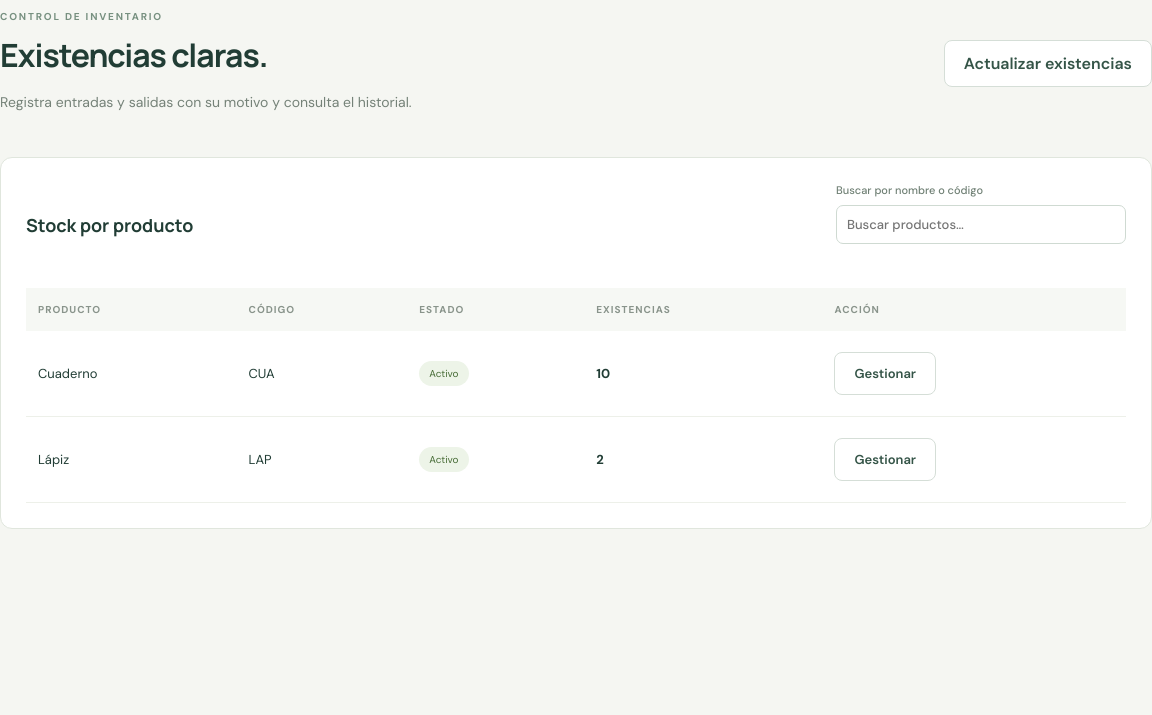
Scenario: Inventario › muestra el conflicto enviado por el servidor
Click the button "Gestionar" in the row of "Cuaderno": [885, 374] box [834,352,936,395]
(page scrolled)
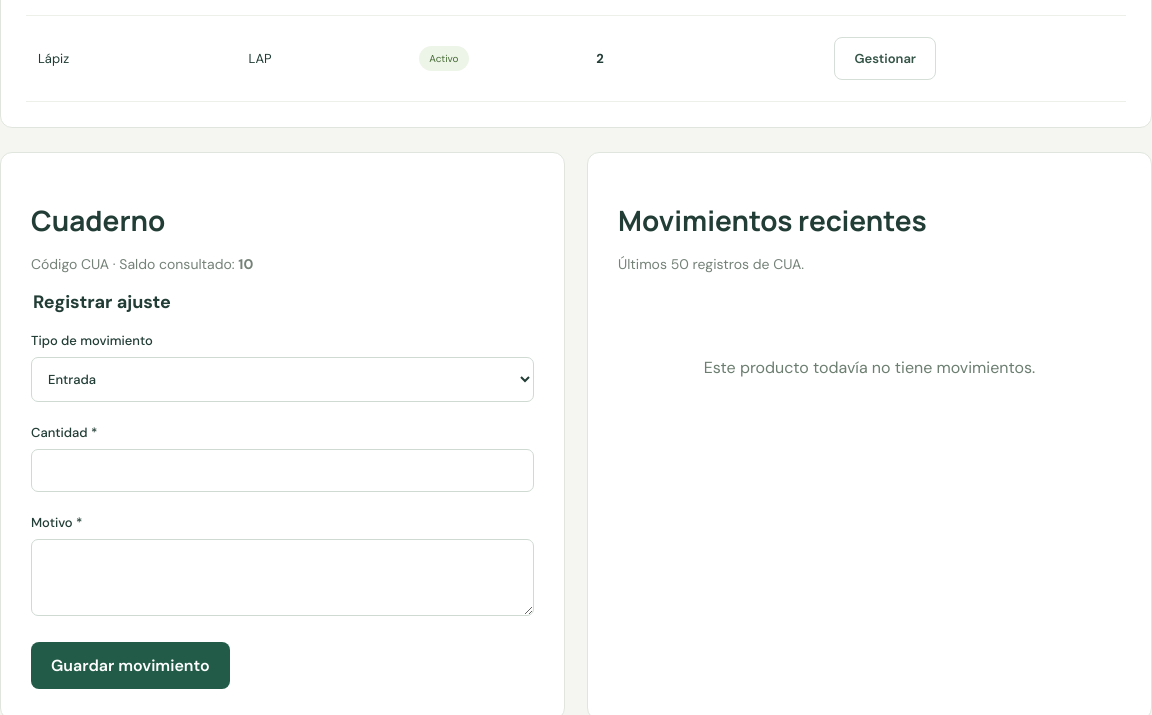
Select "Salida" in the dropdown labelled "Tipo de movimiento": [282, 379] box [31,357,534,402]
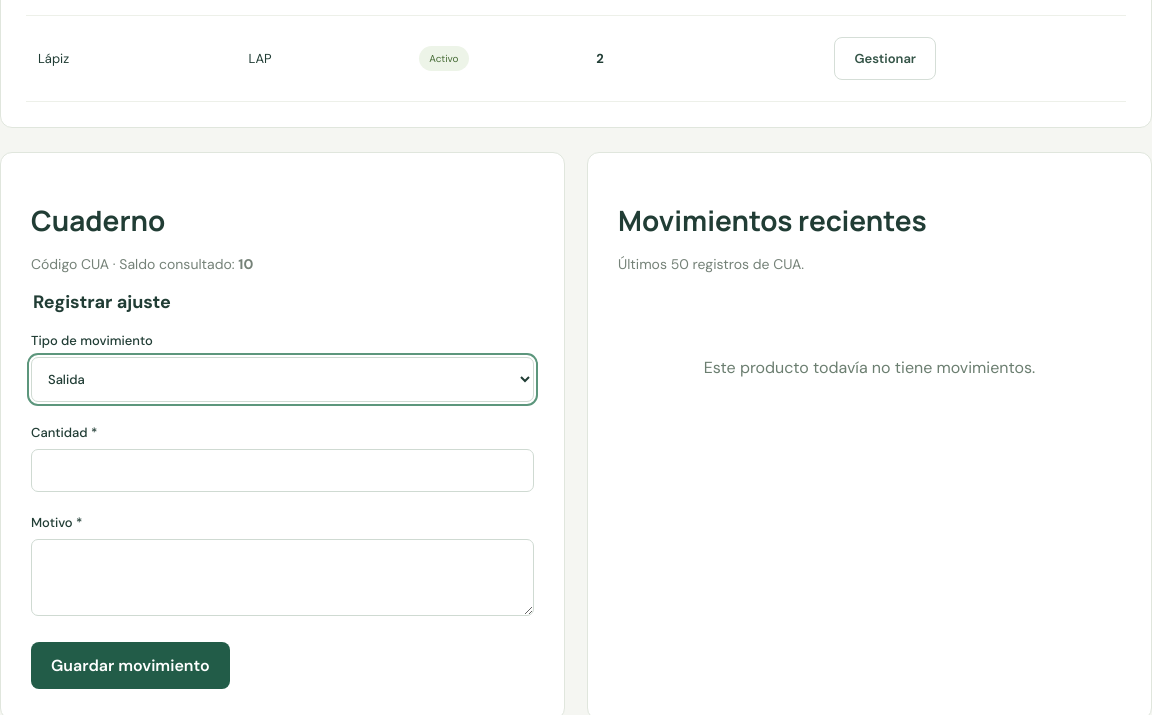
In the number field labelled "Cantidad *": [282, 470] box [31,449,534,492], type "2"
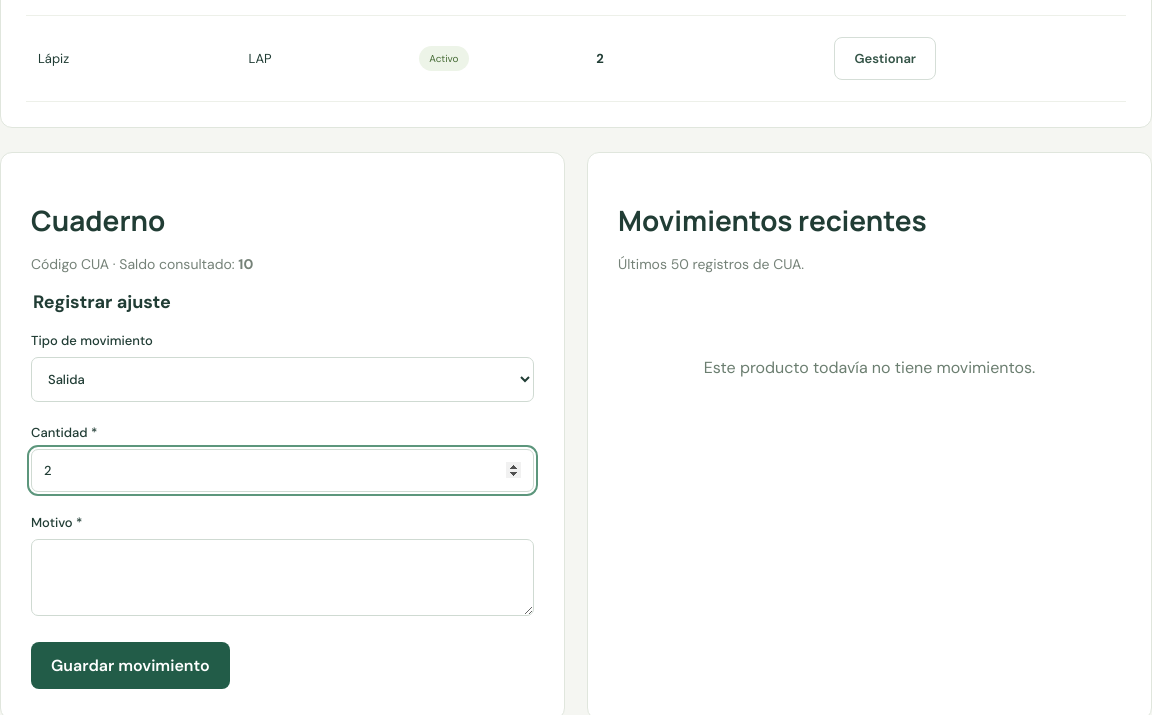
In the text box labelled "Motivo *": [282, 577] box [31,539,534,616], type "Conteo"
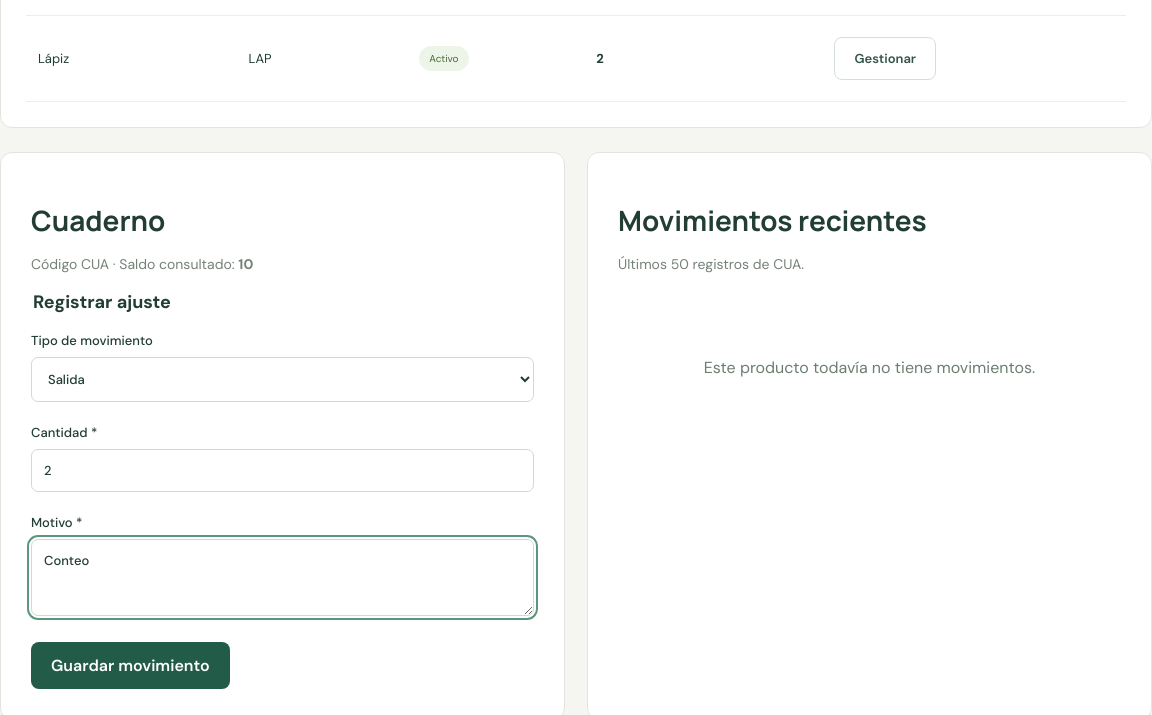
Click the button "Guardar movimiento": [130, 665] box [31,642,230,689]
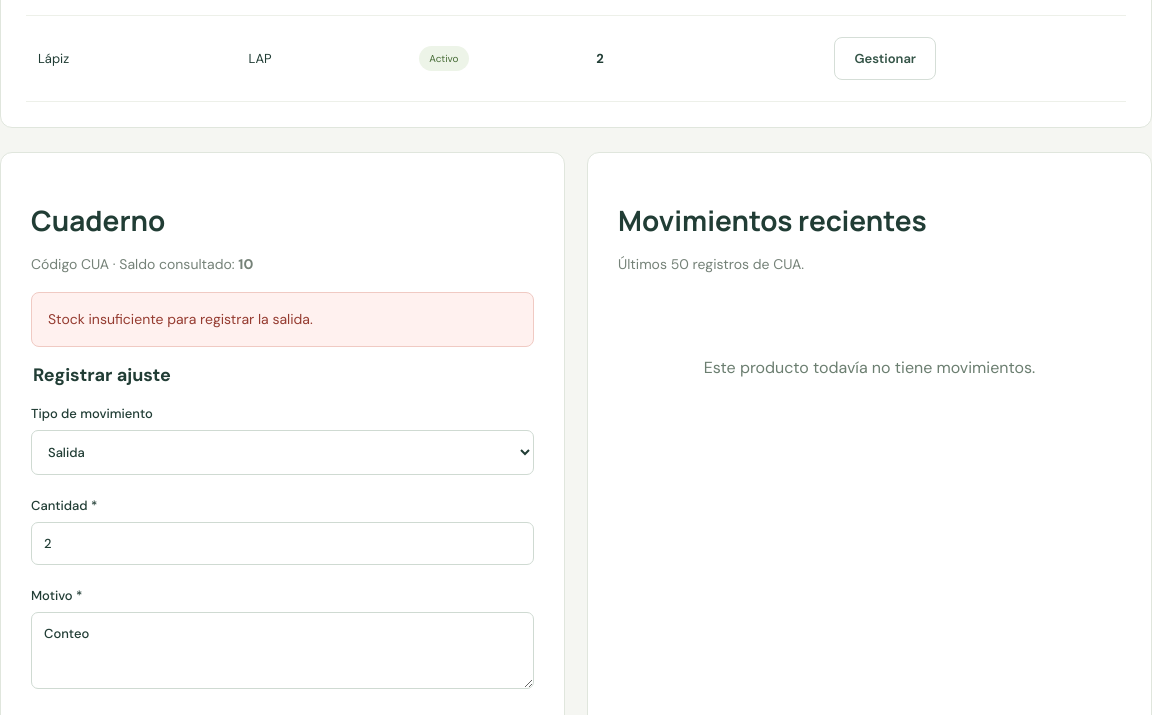
expect the message shows "Stock insuficiente": met, box [48,310,313,328]
